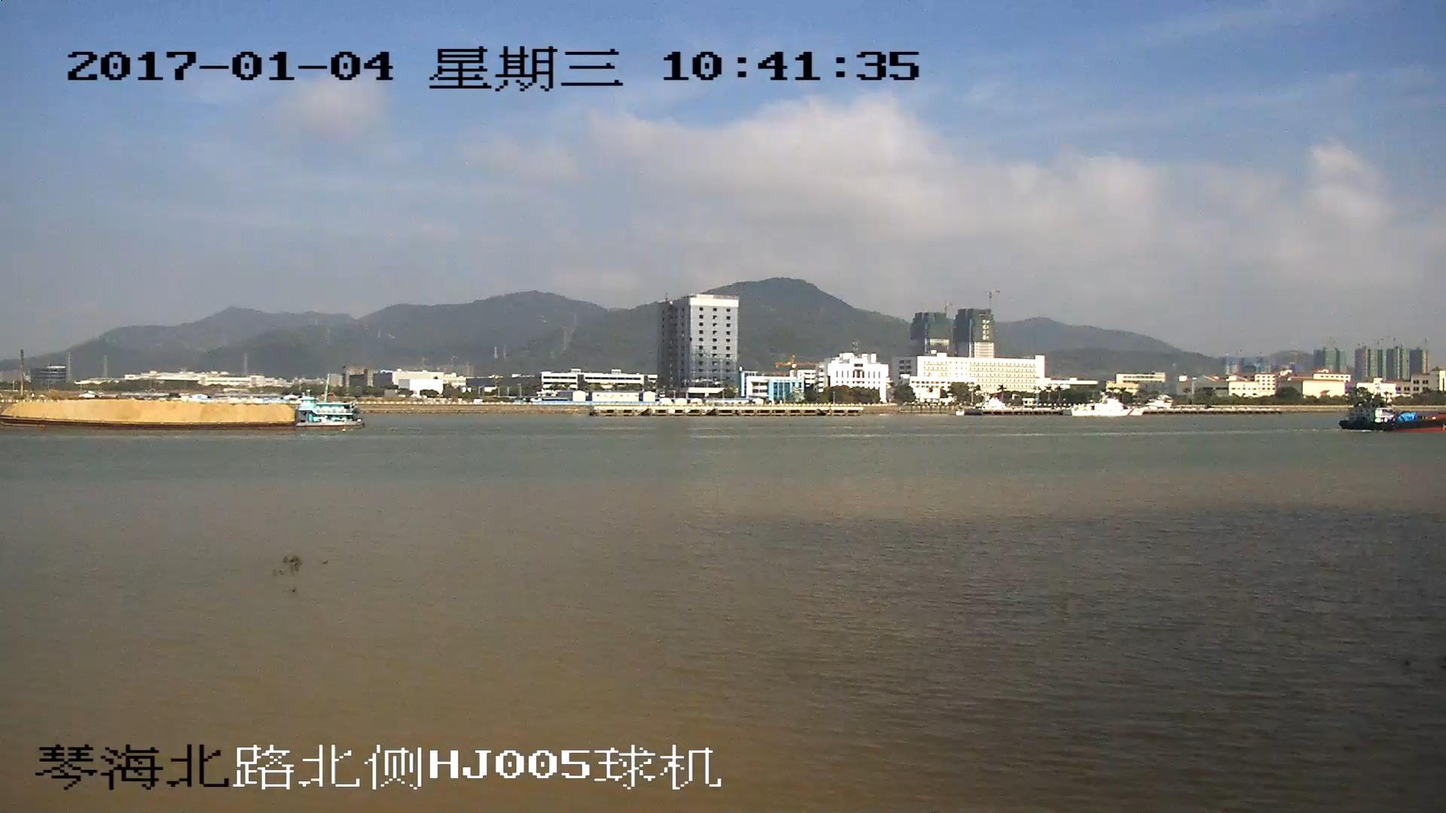container ship: (1344, 402, 1445, 430)
ore carrier: (0, 394, 361, 430)
